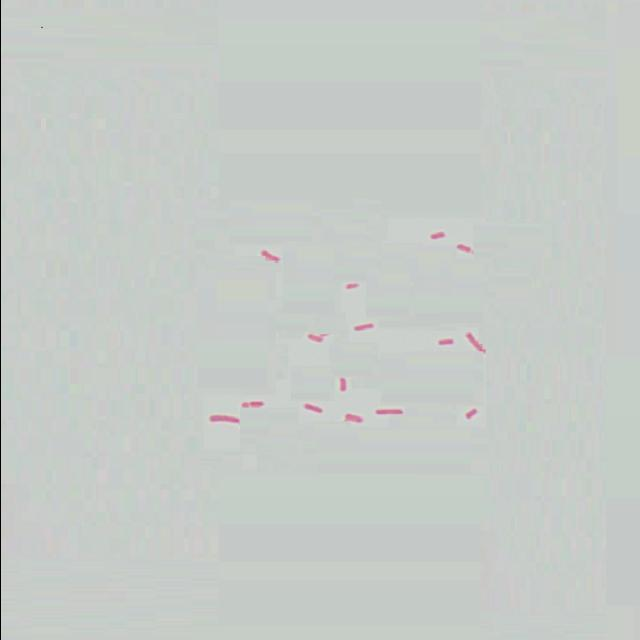E-coli: (459, 328, 486, 354), (297, 397, 324, 418), (205, 415, 244, 429), (257, 248, 285, 267), (235, 399, 270, 413), (373, 406, 409, 418), (428, 335, 458, 349), (448, 241, 478, 255), (336, 412, 364, 426), (347, 322, 382, 333), (461, 406, 484, 421), (296, 331, 324, 343), (422, 229, 448, 241), (340, 280, 363, 293), (334, 374, 350, 392)
